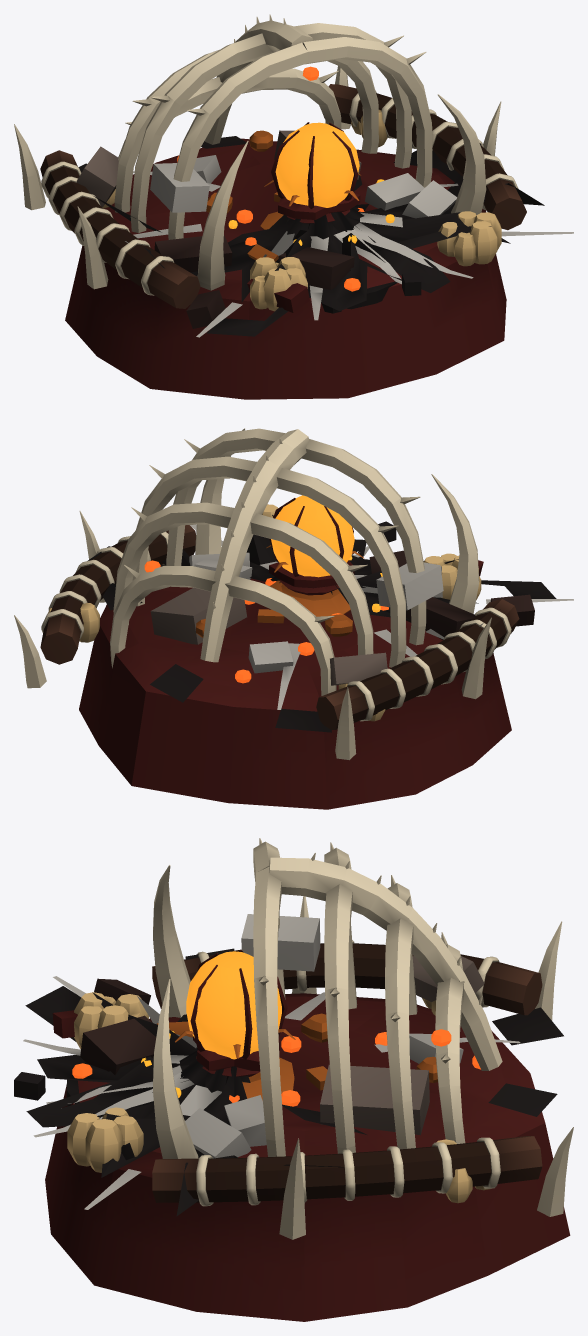
The model's file is brood-hive-amnion.glb.
3 renders of one model, top to bottom at view 1: azimuth 30°, elevation 25°; view 2: azimuth 150°, elevation 25°; view 3: azimuth 270°, elevation 25°, orthographic. The views are drawn at different scales.
Visible parts, largest first — view 1: site_brood_hive_amnion_body, site_brood_hive_amnion_ruin, site_brood_hive_amnion_core; view 2: site_brood_hive_amnion_body, site_brood_hive_amnion_ruin, site_brood_hive_amnion_core; view 3: site_brood_hive_amnion_body, site_brood_hive_amnion_ruin, site_brood_hive_amnion_core.
Boxes of the visible parts, x1,y1,x2,y2 form: site_brood_hive_amnion_body: (14,14,526,399); site_brood_hive_amnion_ruin: (76,66,573,337); site_brood_hive_amnion_core: (271,122,359,208); site_brood_hive_amnion_body: (14,428,519,809); site_brood_hive_amnion_ruin: (88,515,573,732); site_brood_hive_amnion_core: (269,495,354,577); site_brood_hive_amnion_body: (45,838,573,1321); site_brood_hive_amnion_ruin: (14,914,563,1216); site_brood_hive_amnion_core: (186,950,287,1059).
Size of the model in its own units: 5.11 by 3.34 by 4.79.
